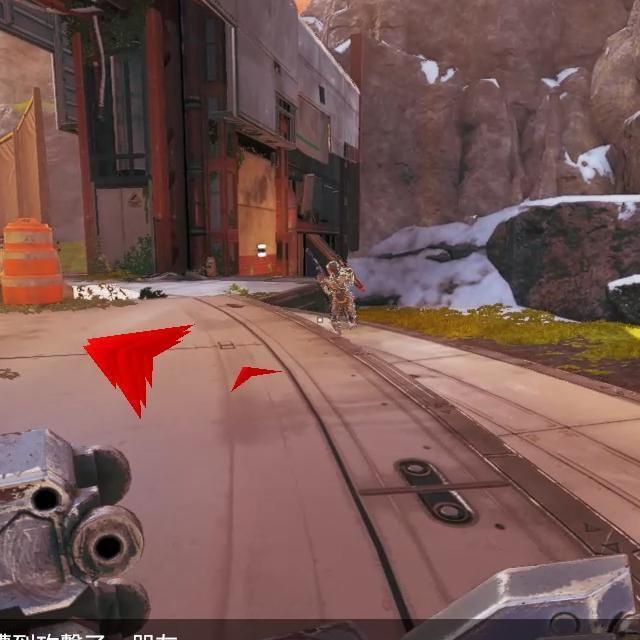avatar: (320, 258, 359, 338)
